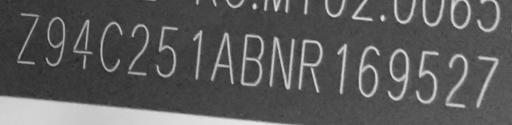letter: (152, 21, 182, 80), (296, 37, 326, 96), (442, 51, 470, 110), (238, 29, 266, 88), (268, 32, 296, 91), (208, 29, 236, 86), (355, 43, 381, 102), (414, 49, 440, 106), (474, 53, 500, 110), (98, 19, 124, 76), (384, 47, 410, 102), (15, 11, 41, 66), (70, 16, 96, 71), (43, 14, 67, 71), (126, 22, 150, 77), (189, 24, 205, 83), (333, 41, 349, 98)
